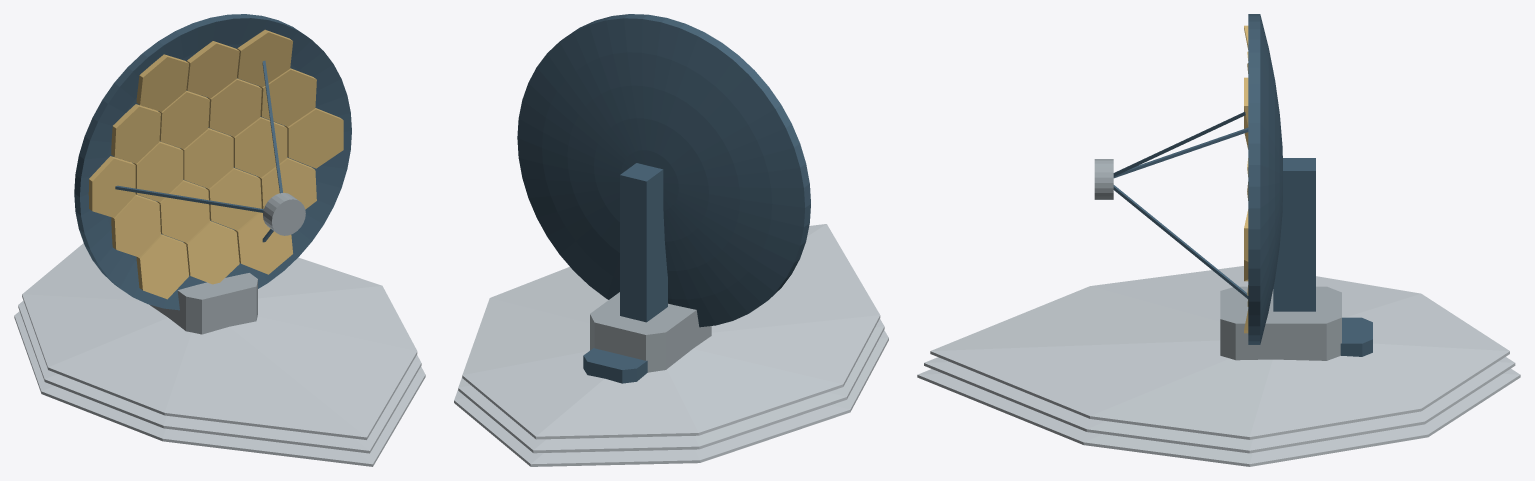
3 views of the same model, side by side, from view 1: azimuth 30°, elevation 25°; view 2: azimuth 150°, elevation 25°; view 3: azimuth 270°, elevation 25° (orthographic). The views are drawn at different scales.
Parts seen in each view (by area): view 1: WholeFoldedKiteShieldLayer2, WholeConcavePrimaryBackplate, WholeFoldedKiteShieldLayer0, WholeFoldedKiteShieldLayer1, WholeCentralInstrumentBus, WholePrimaryFaceElement_2_0, WholePrimaryFaceElement_1_-2, WholePrimaryFaceElement_0_-2, WholePrimaryFaceElement_1_0, WholePrimaryFaceElement_1_-1, WholePrimaryFaceElement_0_0, WholePrimaryFaceElement_1_1 (+15 smaller); view 2: WholeConcavePrimaryBackplate, WholeFoldedKiteShieldLayer2, WholeRearMirrorSupportSpine, WholeFoldedKiteShieldLayer0, WholeFoldedKiteShieldLayer1, WholeCentralInstrumentBus, WholeRearInstrumentCover; view 3: WholeFoldedKiteShieldLayer2, WholeConcavePrimaryBackplate, WholeFoldedKiteShieldLayer0, WholeFoldedKiteShieldLayer1, WholeCentralInstrumentBus, WholeRearMirrorSupportSpine, WholeRearInstrumentCover, WholeForwardSecondaryStrut2, WholeForwardSecondaryPod, WholeForwardSecondaryStrut1, WholeForwardSecondaryStrut0.
Part boxes in pixels (x1=…): WholeFoldedKiteShieldLayer2: x1=22, y1=243, x2=417, y2=439; WholeConcavePrimaryBackplate: x1=74, y1=14, x2=351, y2=310; WholeFoldedKiteShieldLayer0: x1=14, y1=311, x2=425, y2=466; WholeFoldedKiteShieldLayer1: x1=18, y1=300, x2=421, y2=453; WholeCentralInstrumentBus: x1=149, y1=273, x2=257, y2=334; WholePrimaryFaceElement_2_0: x1=285, y1=108, x2=343, y2=168; WholePrimaryFaceElement_1_-2: x1=184, y1=221, x2=239, y2=284; WholePrimaryFaceElement_0_-2: x1=136, y1=234, x2=188, y2=299; WholePrimaryFaceElement_1_0: x1=231, y1=117, x2=287, y2=177; WholePrimaryFaceElement_1_-1: x1=206, y1=168, x2=261, y2=230; WholePrimaryFaceElement_0_0: x1=181, y1=128, x2=233, y2=188; WholePrimaryFaceElement_1_1: x1=259, y1=68, x2=316, y2=126; WholeConcavePrimaryBackplate: x1=517, y1=14, x2=810, y2=327; WholeFoldedKiteShieldLayer2: x1=462, y1=224, x2=880, y2=439; WholeRearMirrorSupportSpine: x1=620, y1=163, x2=667, y2=322; WholeFoldedKiteShieldLayer0: x1=454, y1=330, x2=888, y2=466; WholeFoldedKiteShieldLayer1: x1=458, y1=319, x2=884, y2=453; WholeCentralInstrumentBus: x1=590, y1=292, x2=711, y2=372; WholeRearInstrumentCover: x1=583, y1=348, x2=647, y2=383; WholeFoldedKiteShieldLayer2: x1=930, y1=266, x2=1509, y2=439; WholeConcavePrimaryBackplate: x1=1248, y1=14, x2=1282, y2=344; WholeFoldedKiteShieldLayer0: x1=917, y1=369, x2=1520, y2=466; WholeFoldedKiteShieldLayer1: x1=924, y1=357, x2=1515, y2=453; WholeCentralInstrumentBus: x1=1220, y1=286, x2=1341, y2=360; WholeRearMirrorSupportSpine: x1=1273, y1=158, x2=1315, y2=311; WholeRearInstrumentCover: x1=1340, y1=317, x2=1372, y2=356; WholeForwardSecondaryStrut2: x1=1113, y1=185, x2=1248, y2=298; WholeForwardSecondaryPod: x1=1094, y1=159, x2=1113, y2=199; WholeForwardSecondaryStrut1: x1=1113, y1=127, x2=1248, y2=178; WholeForwardSecondaryStrut0: x1=1113, y1=111, x2=1245, y2=176.
Size of the model in its own units: 3.58 by 3.6 by 5.1.
